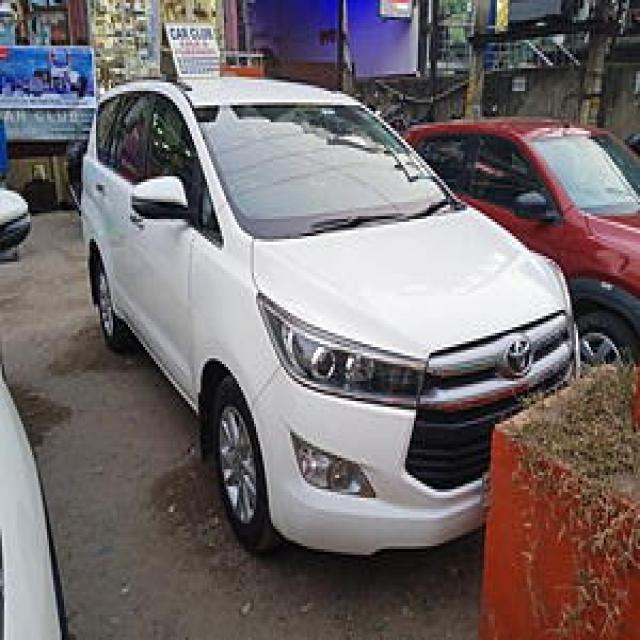light_vehicle: (76, 72, 583, 559)
